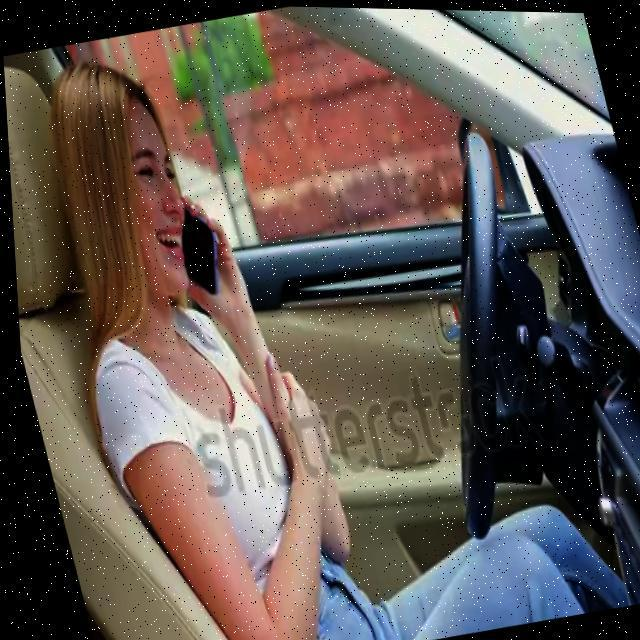PhoneCall: (166, 184, 229, 296)
